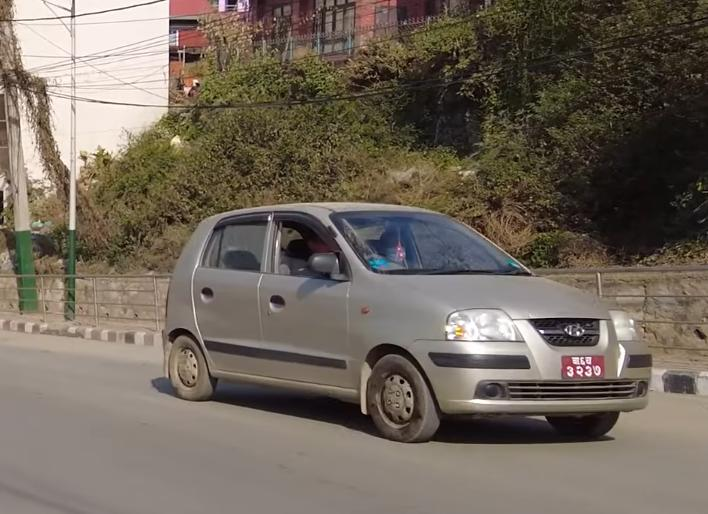car: (151, 197, 664, 445)
